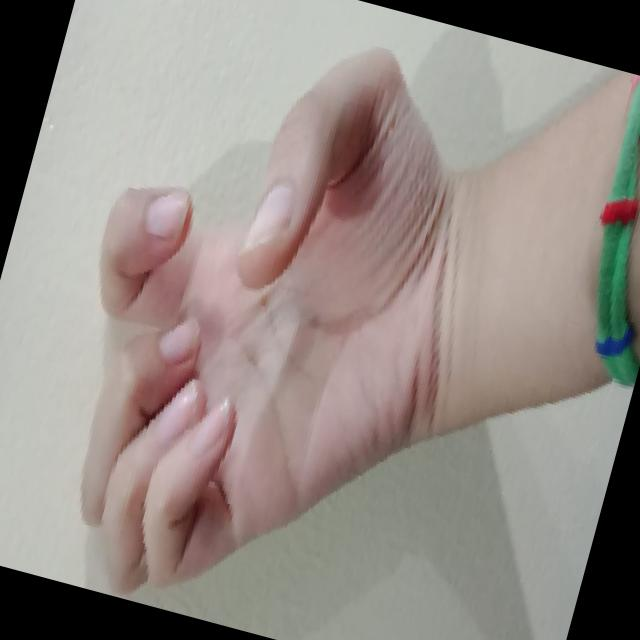Nail: (242, 182, 294, 250), (191, 398, 231, 454), (145, 188, 188, 238), (158, 318, 200, 361), (161, 380, 193, 436)
